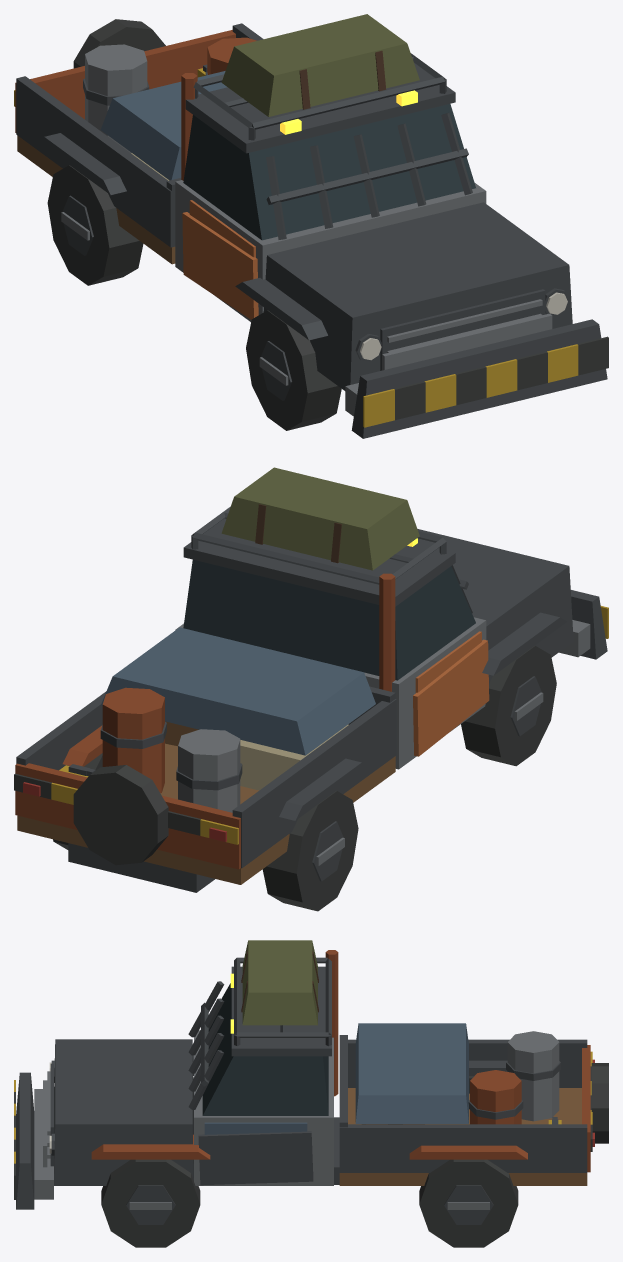
Rendered from vehicle_truck_l3.glb.
3 views of the same model, one above another, from view 1: azimuth 30°, elevation 25°; view 2: azimuth 150°, elevation 25°; view 3: azimuth 270°, elevation 25° (orthographic). The views are drawn at different scales.
Parts seen in each view (by area): view 1: body, wheel_fr, wheel_rr; view 2: body, wheel_rr, wheel_fr; view 3: body, wheel_fl, wheel_rl.
Boxes of the visible parts, bbox=[...] form: body: bbox=[14, 14, 608, 438]; wheel_fr: bbox=[246, 310, 341, 430]; wheel_rr: bbox=[47, 165, 143, 285]; body: bbox=[14, 467, 608, 892]; wheel_rr: bbox=[262, 791, 358, 911]; wheel_fr: bbox=[461, 645, 556, 766]; body: bbox=[14, 940, 608, 1209]; wheel_fl: bbox=[101, 1159, 200, 1247]; wheel_rl: bbox=[419, 1159, 518, 1247].
Bounding box in the file's own units: 2.22 × 2.38 × 5.52.
